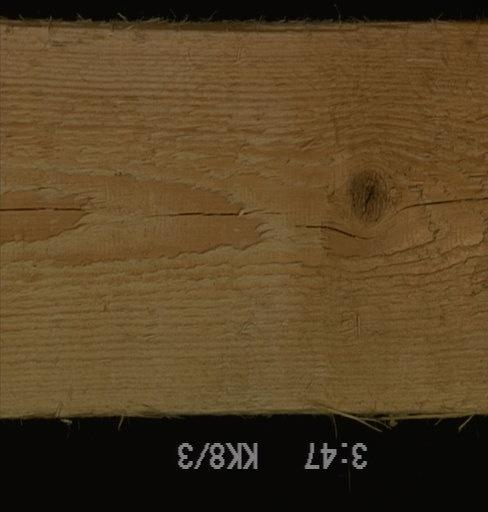sound_knot: (343, 165, 394, 224)
split: (395, 195, 486, 214), (292, 223, 374, 243), (143, 208, 286, 217), (0, 205, 83, 212)
wave: (0, 17, 430, 32)
